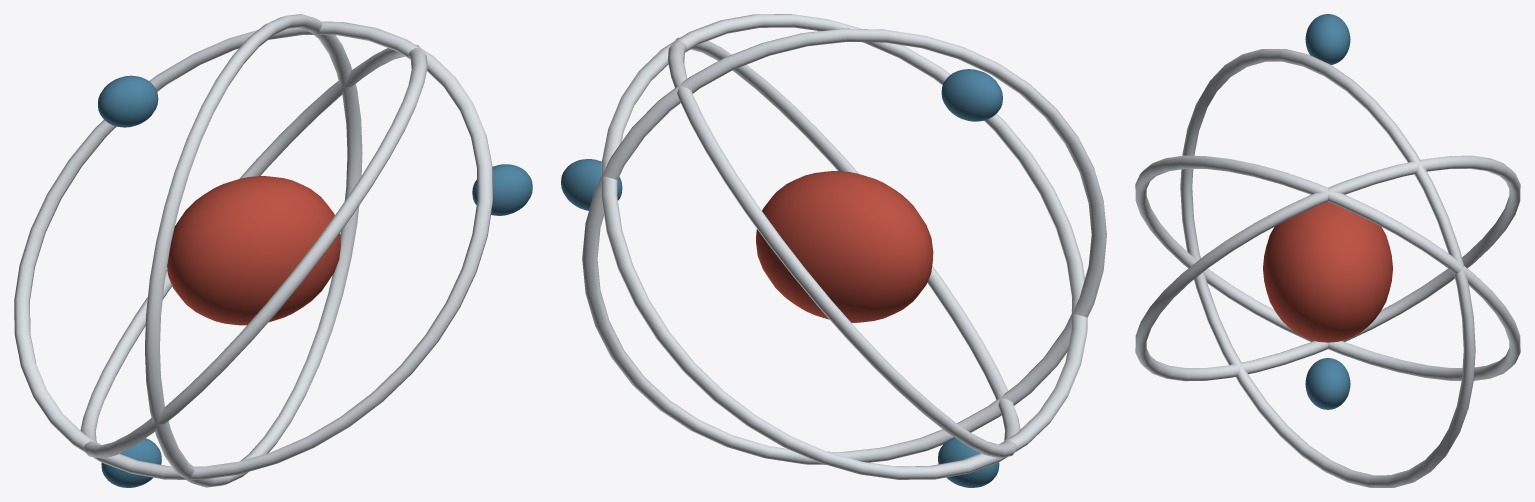
Rendered from wp-modele-d-atome.glb.
3 views of the same model, side by side, from view 1: azimuth 30°, elevation 25°; view 2: azimuth 150°, elevation 25°; view 3: azimuth 270°, elevation 25° (orthographic). The views are drawn at different scales.
Visible parts, largest first — view 1: wp-modele-d-atome; view 2: wp-modele-d-atome; view 3: wp-modele-d-atome.
Part boxes in pixels (box(x1,y1,x2,y2)): wp-modele-d-atome: box(14, 14, 532, 487); wp-modele-d-atome: box(561, 14, 1106, 487); wp-modele-d-atome: box(1135, 14, 1520, 487).
Bounding box in the file's own units: 0.4967 × 0.4424 × 0.3793.
